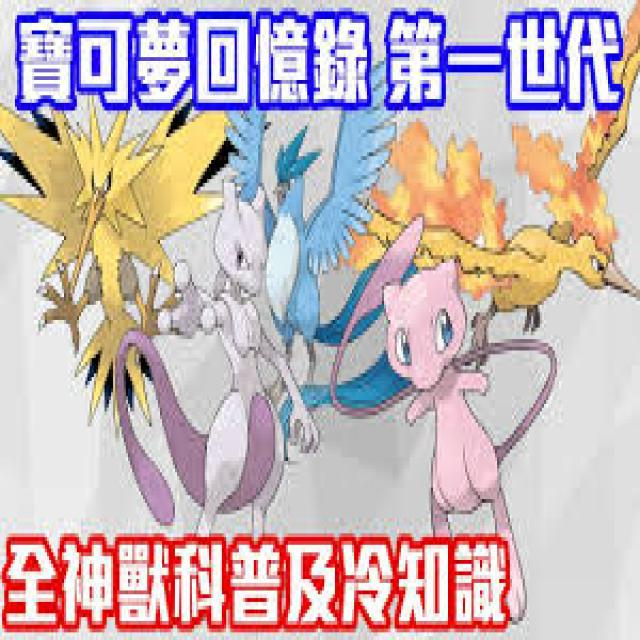Articuno: (259, 115, 353, 341)
Mew: (383, 262, 500, 536)
Mewtwo: (201, 191, 288, 520)
Moltres: (413, 155, 623, 322)
Zapdos: (54, 109, 168, 349)
